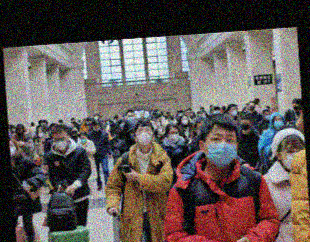with_mask: (204, 131, 236, 168), (281, 146, 303, 170), (135, 126, 152, 146), (53, 135, 68, 150), (273, 116, 284, 130), (167, 130, 179, 142), (239, 120, 251, 131), (9, 142, 16, 157), (229, 106, 237, 117), (264, 111, 272, 121), (180, 117, 188, 125), (126, 113, 134, 121), (79, 136, 87, 144), (37, 129, 44, 138), (248, 103, 255, 111), (71, 127, 78, 135), (16, 129, 23, 137), (213, 107, 220, 114), (92, 125, 100, 131), (155, 120, 161, 127), (167, 118, 174, 123), (93, 114, 98, 120), (105, 119, 109, 124), (85, 119, 89, 124), (11, 126, 15, 131)
